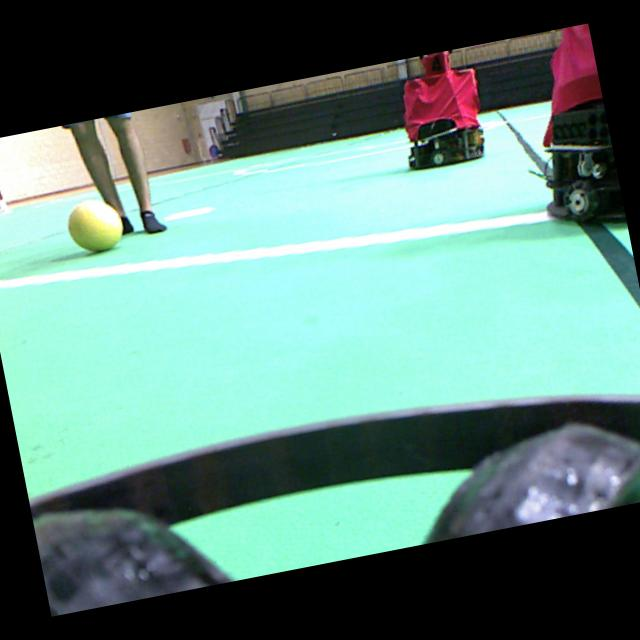ball: (68, 200, 122, 251)
